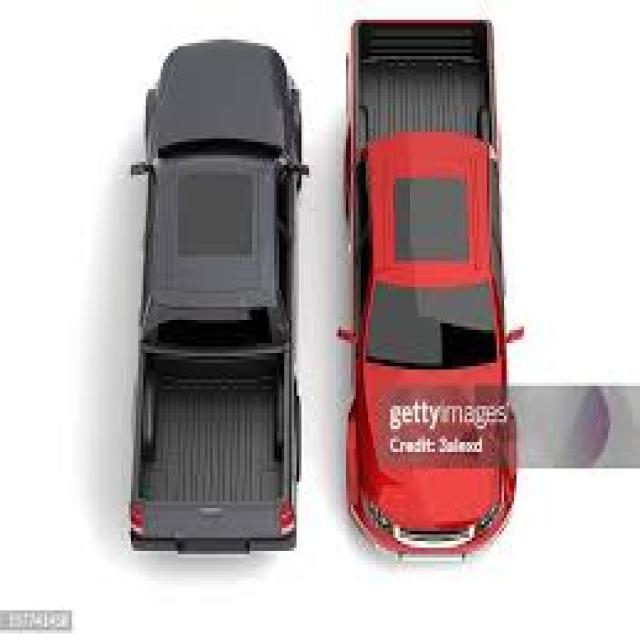truck: (346, 17, 516, 562), (133, 37, 301, 553)
